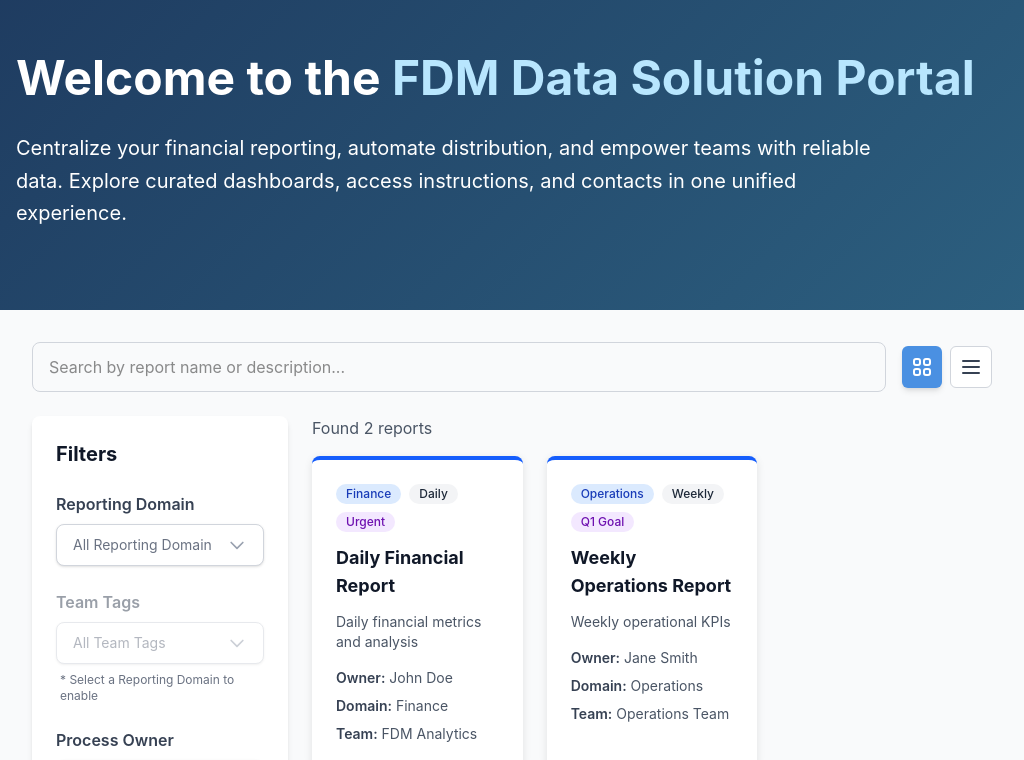
Scenario: Home Page › should reset filters
The width and height of the screenshot is (1024, 760).
// Open domain filter and select Finance
Click the button "All Reporting Domain". click: x=160, y=544
box: left=56, top=524, right=264, bottom=566
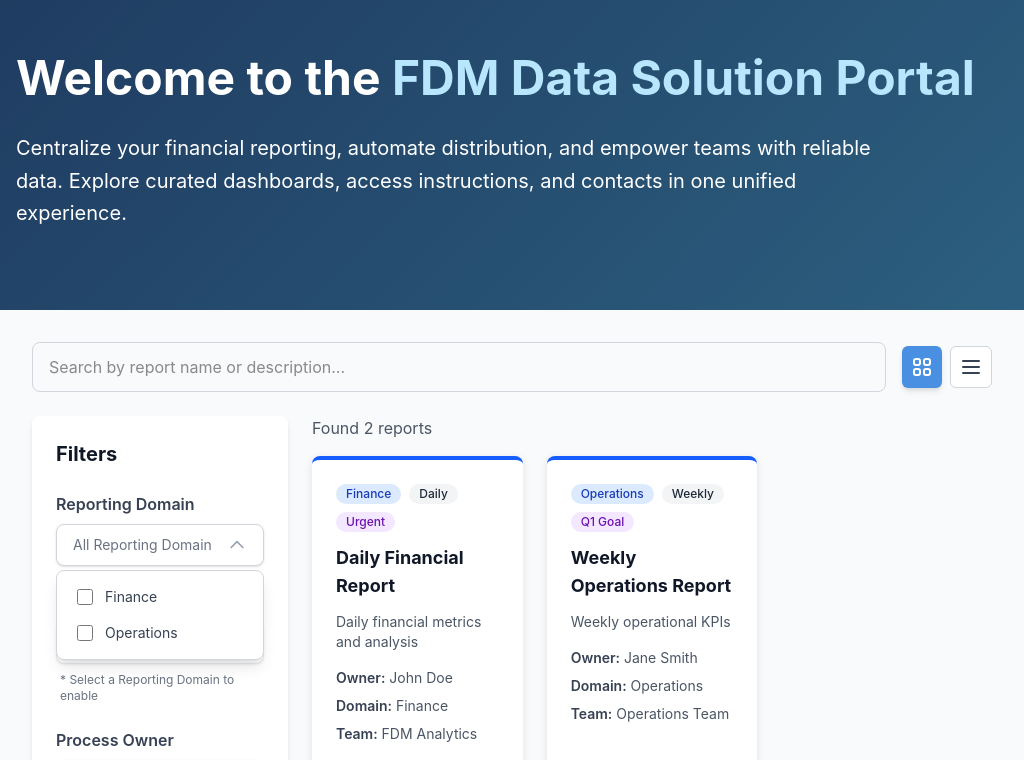
Click the checkbox labelled "Finance". click: x=85, y=596
box: left=77, top=588, right=93, bottom=604
(page scrolled)
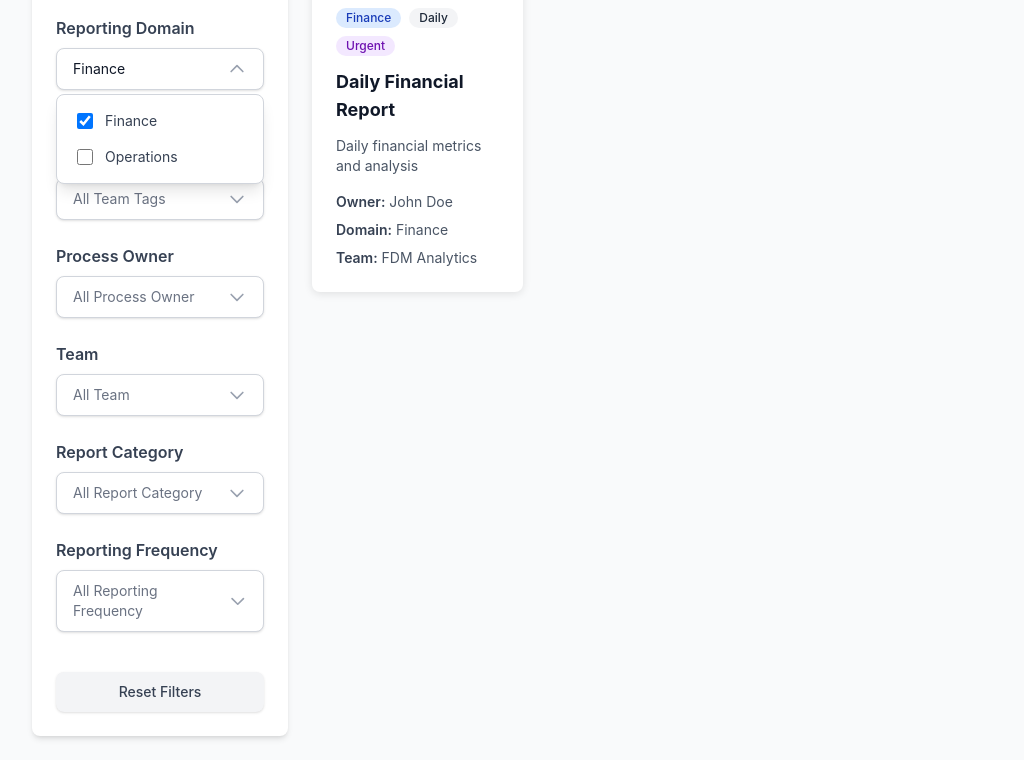
Expected: the heading "Daily Financial Report" is shown, left=336, top=70, right=464, bottom=120
// Reset filters
Click the button "Reset Filters". click: x=160, y=692
box: left=56, top=672, right=264, bottom=712
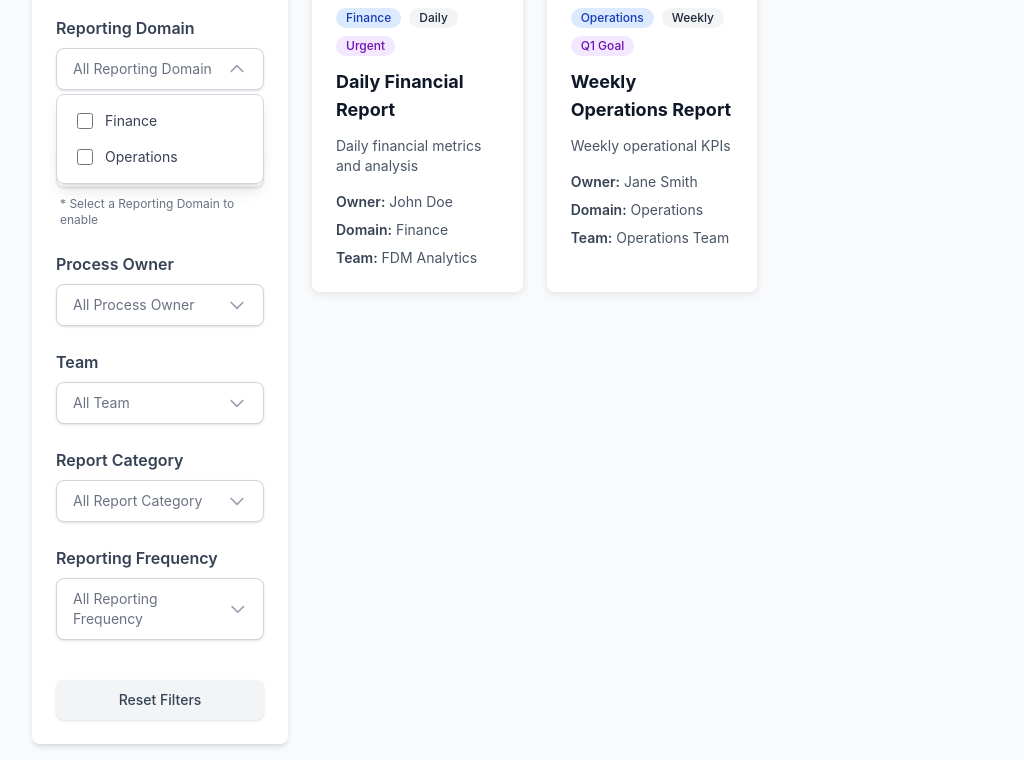
Expected: the heading "Daily Financial Report" is shown, left=336, top=70, right=464, bottom=120
Expected: the heading "Weekly Operations Report" is shown, left=571, top=68, right=733, bottom=124
